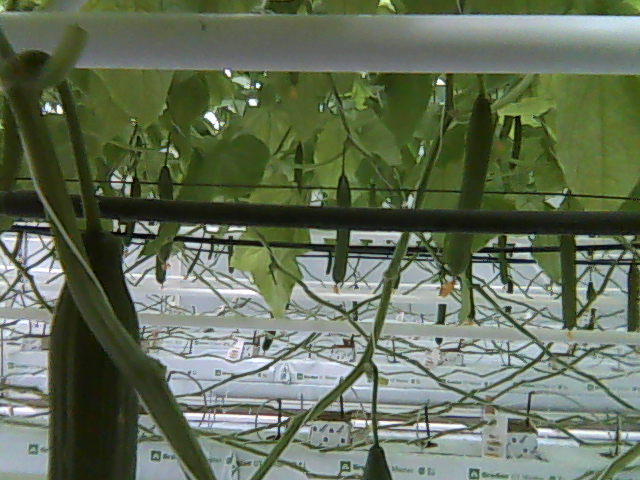concombre: (43, 213, 144, 480)
